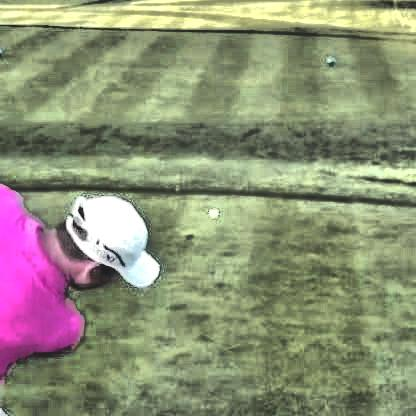golfball: (206, 206, 216, 215)
